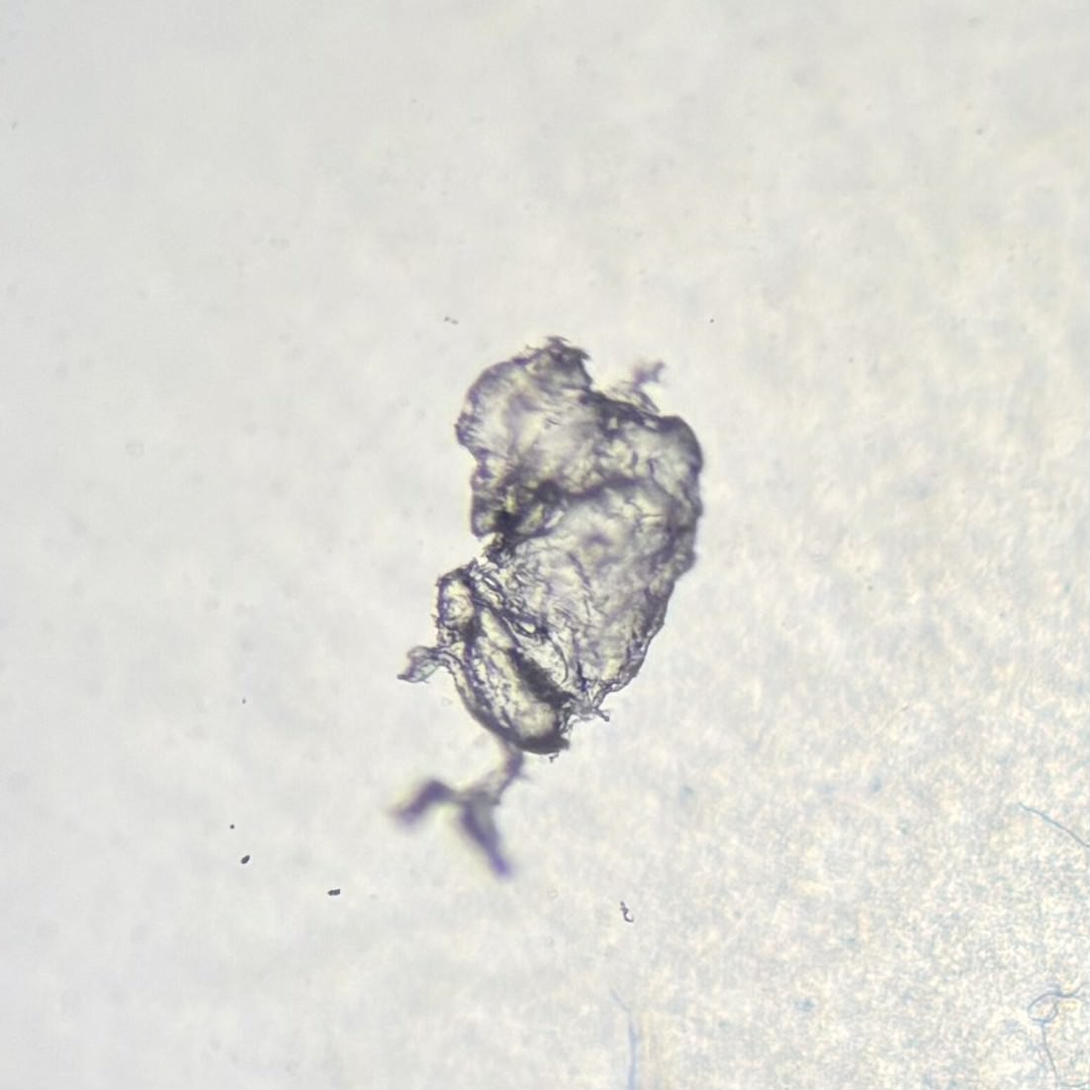microplastic: (385, 335, 705, 880)
